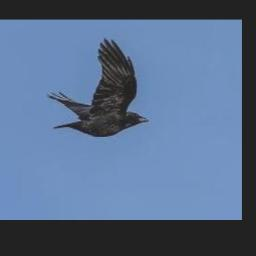Crow: (47, 38, 149, 136)
